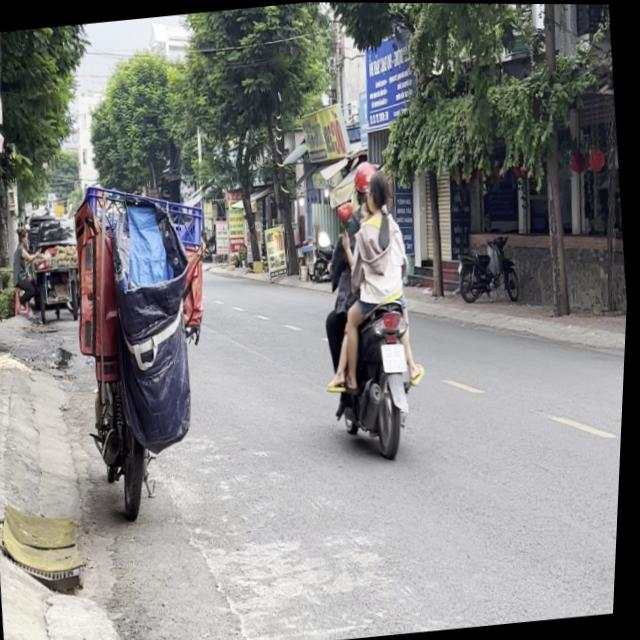helmet: (352, 158, 381, 206)
licenseplate: (306, 154, 442, 461)
motorcyclist: (367, 166, 396, 214)
nohelmet: (383, 342, 411, 372)
